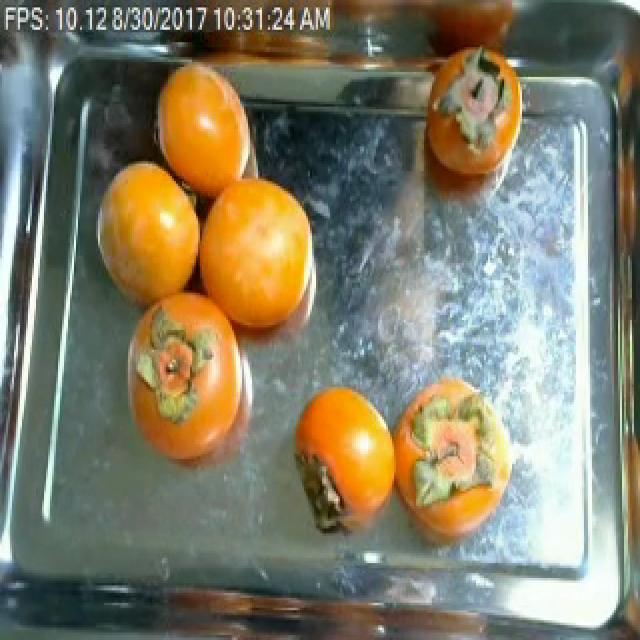Fruit: (184, 156, 316, 362), (84, 146, 208, 320), (140, 54, 256, 214), (394, 364, 528, 498), (282, 372, 406, 511)
